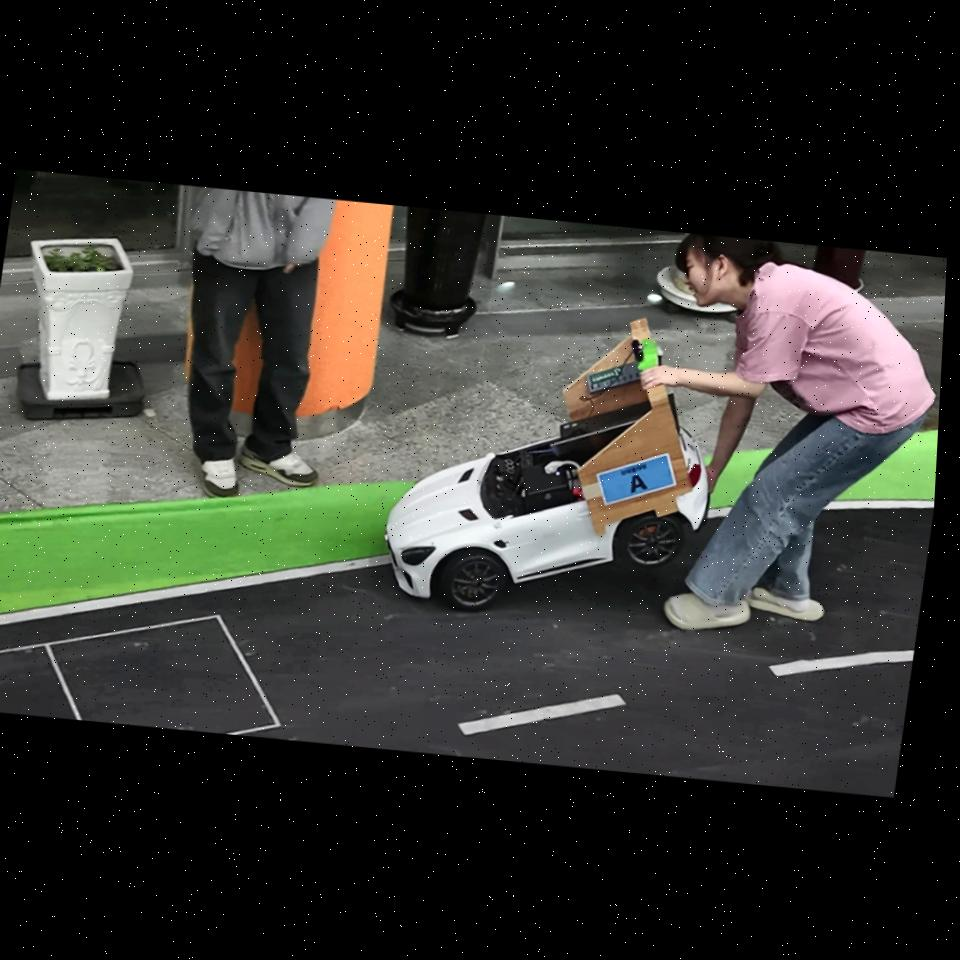broken_line: (458, 694, 625, 735), (770, 650, 914, 676)
